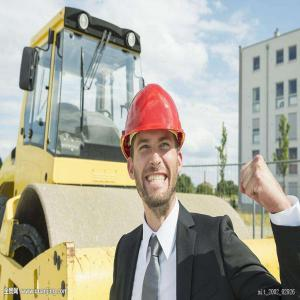red: (120, 79, 188, 216)
